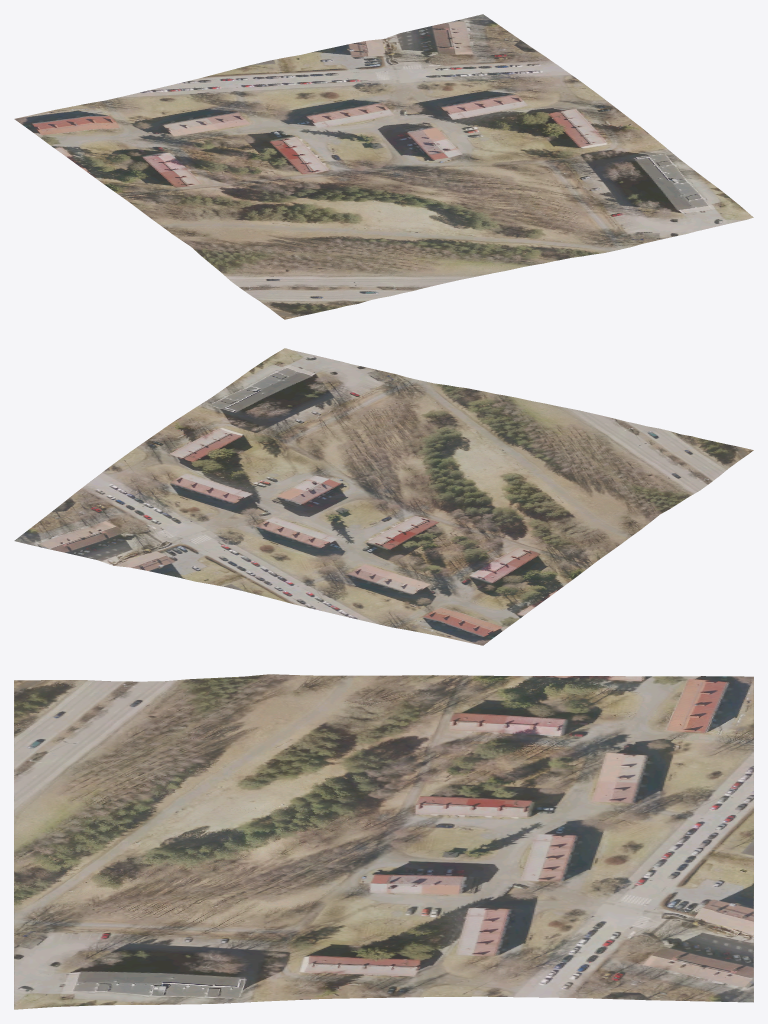
File: CM_Terrain_24490049_6821022.fbx
3 views of the same model, one above another, from view 1: azimuth 30°, elevation 25°; view 2: azimuth 150°, elevation 25°; view 3: azimuth 270°, elevation 25° (orthographic). The views are drawn at different scales.
Visible parts, largest first — view 1: CM_Terrain_24490049_6821022_LOD0; view 2: CM_Terrain_24490049_6821022_LOD0; view 3: CM_Terrain_24490049_6821022_LOD0.
Part boxes in pixels (x1,y1,x2,y2): CM_Terrain_24490049_6821022_LOD0: (14, 14, 753, 319); CM_Terrain_24490049_6821022_LOD0: (14, 348, 753, 645); CM_Terrain_24490049_6821022_LOD0: (14, 674, 753, 1009).
Size of what is drawn, in the model's own units: 205 by 7.12 by 205.
